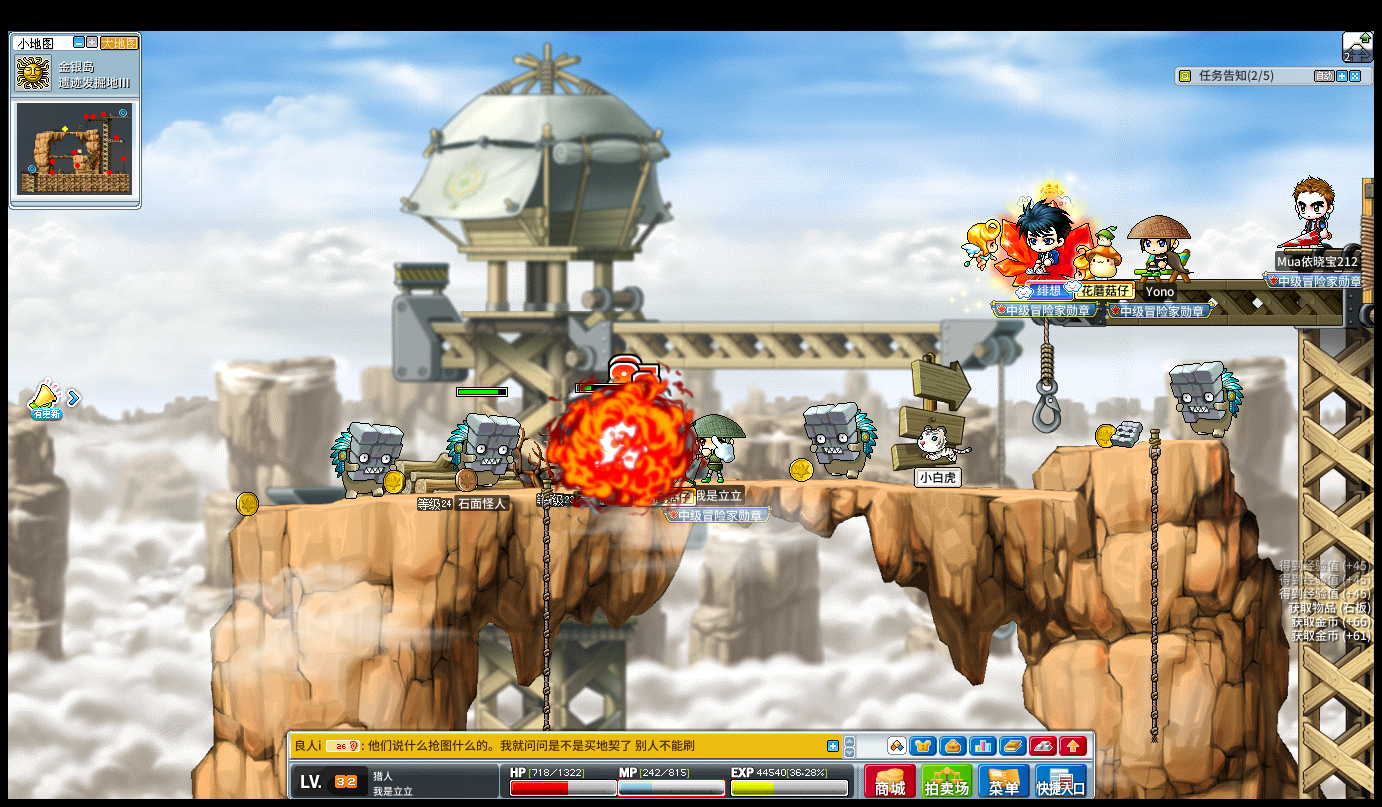floor: (203, 477, 1146, 495), (1057, 434, 1221, 451)
monster: (802, 402, 879, 481), (1169, 360, 1244, 439), (329, 421, 403, 500), (448, 412, 521, 489)
rope: (1145, 427, 1161, 750), (538, 479, 551, 687)
